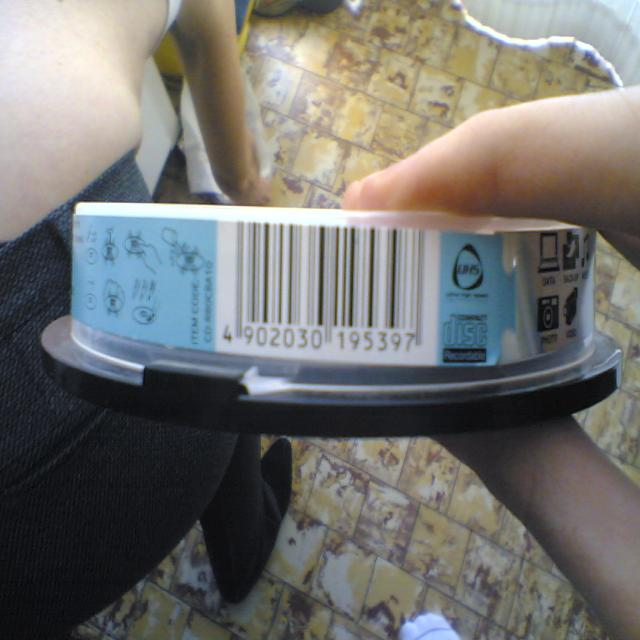barcode: (236, 222, 424, 365)
